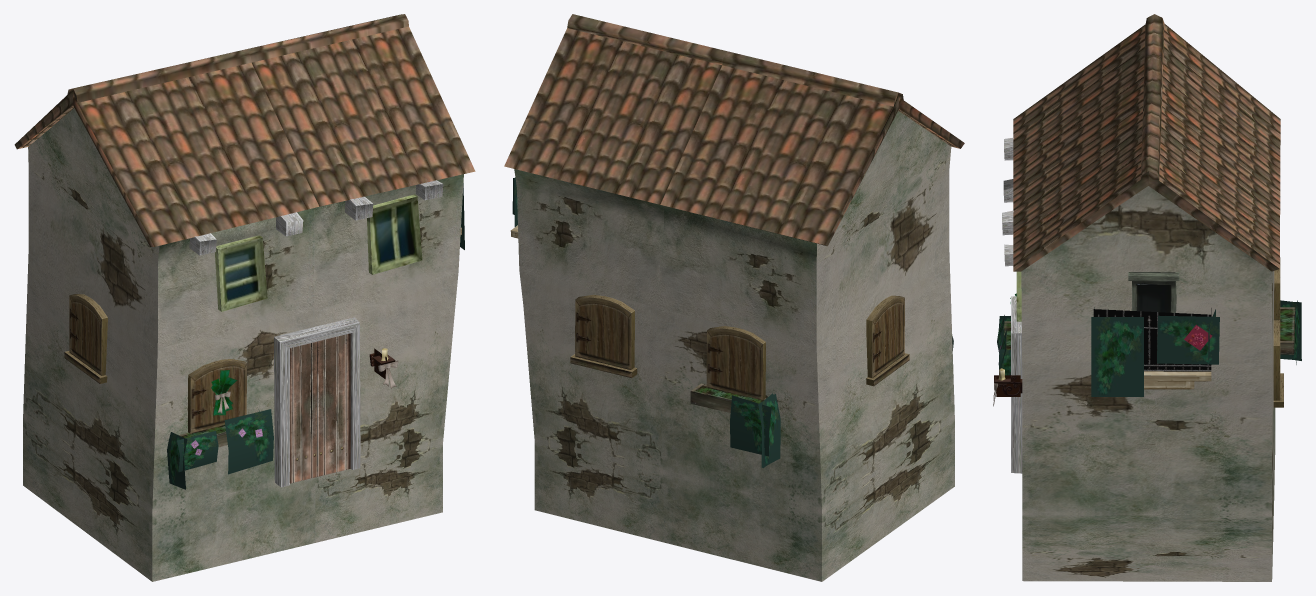
The model's file is spanish_npc_house_e_exterior.fbx.
3 views of the same model, side by side, from view 1: azimuth 30°, elevation 25°; view 2: azimuth 150°, elevation 25°; view 3: azimuth 270°, elevation 25° (orthographic). The views are drawn at different scales.
Parts seen in each view (by area): view 1: building_shell, door_right, window_upper_2, window_upper_1, window_04, window, vine, vine8, vine14; view 2: building_shell, window.001, window_03, window, vine3, window_seal, vine4, windowsill.001; view 3: building_shell, plants_balcony14, plants_balcony11, windowB_1, railing3, window_seal, plants_balcony2, window.001, railing, Light_High1, plants_balcony1.
Part boxes in pixels (x1,y1,x2,y2): building_shell: (14, 14, 475, 581); door_right: (290, 333, 350, 483); window_upper_2: (367, 194, 422, 274); window_upper_1: (215, 235, 267, 311); window_04: (188, 359, 246, 433); window: (69, 294, 107, 375); vine: (224, 409, 273, 474); vine8: (177, 431, 218, 472); vine14: (167, 432, 187, 489); building_shell: (504, 14, 964, 581); window.001: (575, 294, 634, 369); window_03: (706, 326, 765, 400); window: (866, 295, 904, 378); vine3: (730, 395, 771, 456); window_seal: (690, 383, 765, 412); vine4: (758, 394, 780, 467); windowsill.001: (570, 354, 637, 378); building_shell: (1002, 14, 1280, 581); plants_balcony14: (1091, 317, 1143, 396); plants_balcony11: (1157, 315, 1219, 364); windowB_1: (1128, 272, 1179, 312); railing3: (1093, 309, 1211, 371); window_seal: (1280, 307, 1295, 354); plants_balcony2: (1091, 318, 1141, 396); window.001: (1273, 319, 1280, 400); railing: (1093, 308, 1211, 371); Light_High1: (996, 375, 1020, 396); plants_balcony1: (1157, 316, 1216, 360).
Size of the model in its own units: 2683 by 3187 by 2088.
4 materials, 4 textured.
